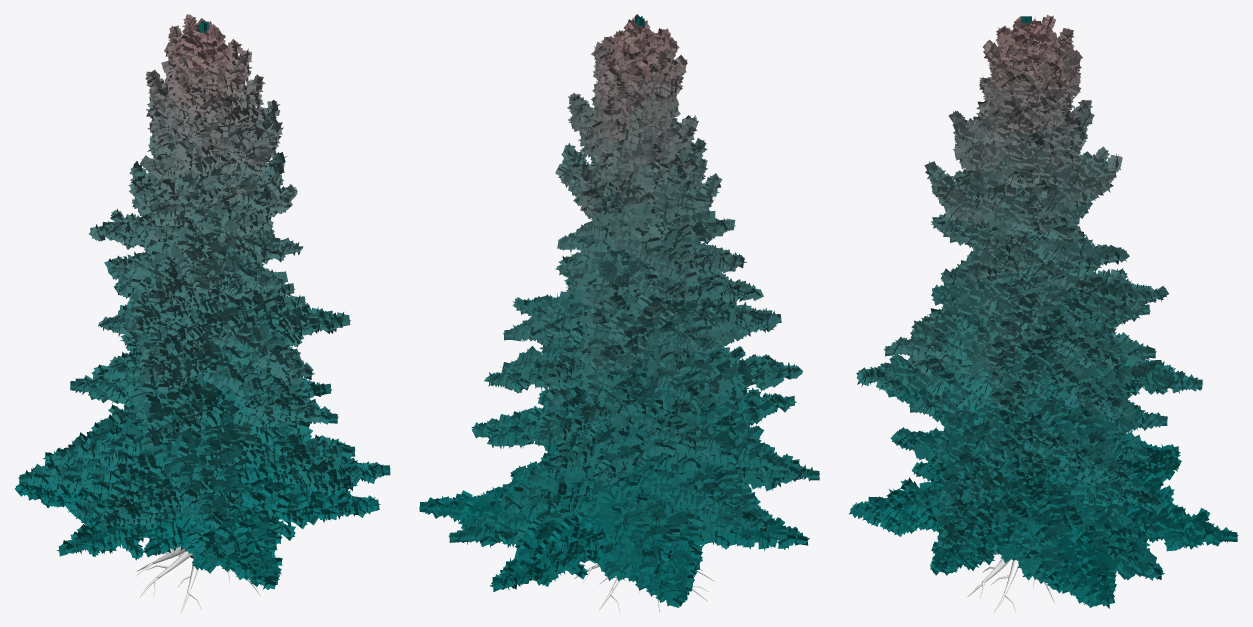
3 views of the same model, side by side, from view 1: azimuth 30°, elevation 25°; view 2: azimuth 150°, elevation 25°; view 3: azimuth 270°, elevation 25° (orthographic).
Visible parts, largest first — view 1: Foliage, Roots; view 2: Foliage; view 3: Foliage.
Part boxes in pixels (x1,y1,x2,y2): Foliage: [15, 14, 390, 589]; Roots: [152, 546, 198, 592]; Foliage: [419, 14, 819, 607]; Foliage: [849, 14, 1238, 608].
Size of the model in its own units: 47431 by 47350 by 76337.
